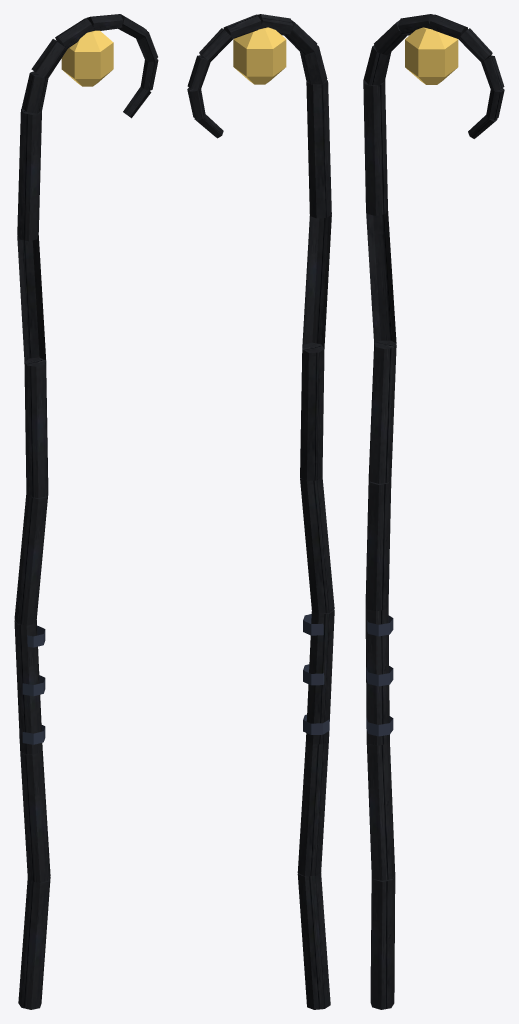
File: wpn_staff_rare.glb
The picture shows the model from 3 angles, left to right: view 1: azimuth 30°, elevation 25°; view 2: azimuth 210°, elevation 25°; view 3: azimuth 330°, elevation 25°; orthographic projection. The views are drawn at different scales.
Parts seen in each view (by area): view 1: wpn_staff_rare; view 2: wpn_staff_rare; view 3: wpn_staff_rare.
Boxes of the visible parts, box(x1,y1,x2,y2) form: wpn_staff_rare: box(14, 14, 158, 1009); wpn_staff_rare: box(187, 14, 334, 1009); wpn_staff_rare: box(363, 14, 504, 1009).
Size of the model in its own units: 0.3173 by 2.18 by 0.1044.
3 materials, 1 textured.
